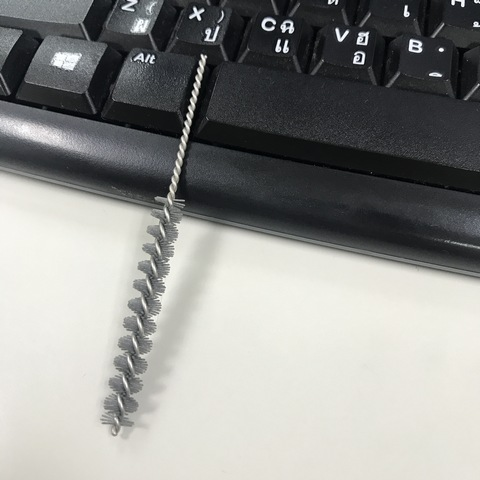Twist Brush-A: (96, 52, 213, 439)
